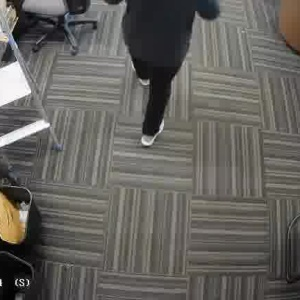person: (112, 0, 214, 146)
